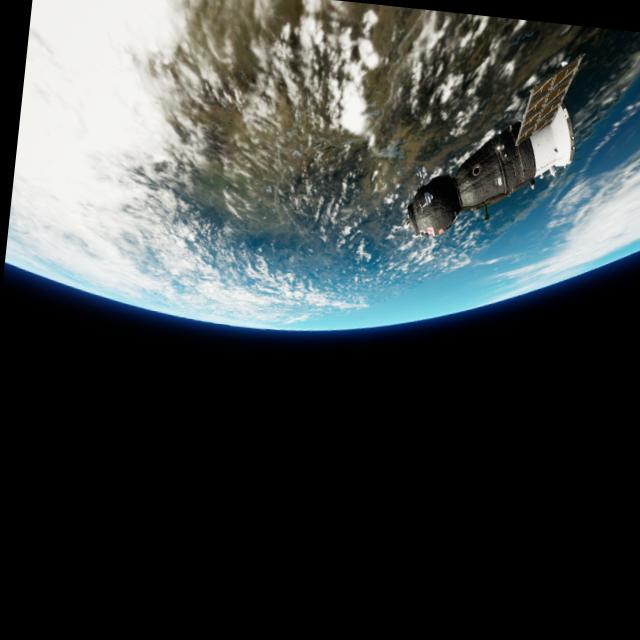Satellites revolving around earth: (1, 0, 640, 367), (402, 34, 588, 254)
